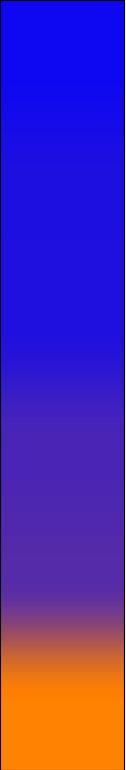Thermal Runaway: (8, 680, 119, 764)
critical: (5, 594, 119, 674)
safe: (6, 5, 120, 531), (6, 536, 120, 588)
